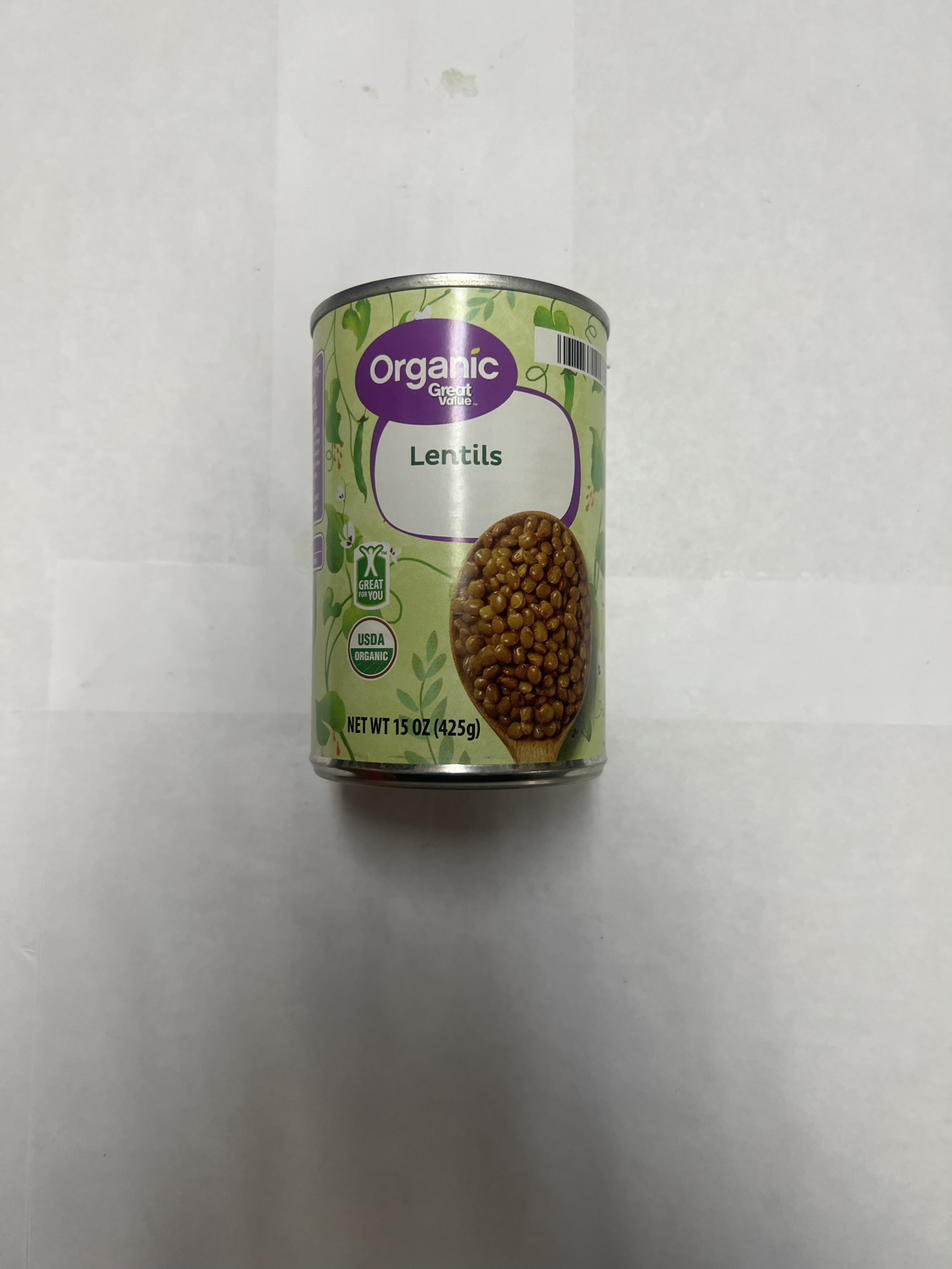packaged: (303, 267, 615, 792)
